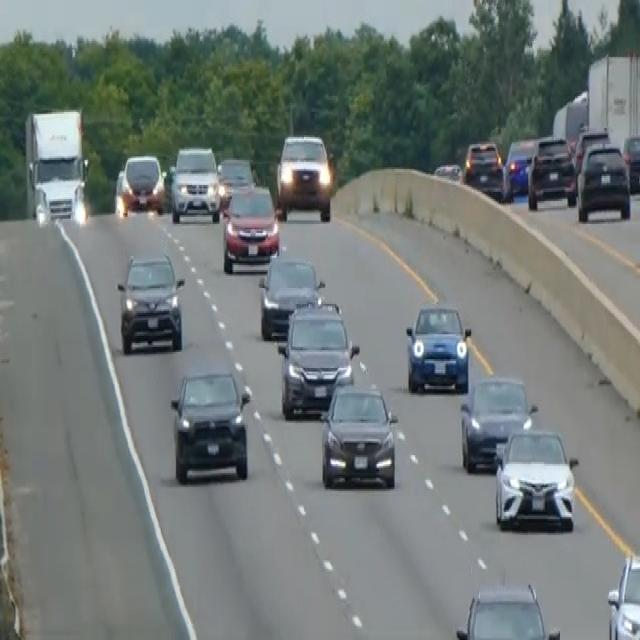car: (277, 298, 359, 418), (169, 366, 251, 484), (493, 422, 578, 532), (319, 379, 398, 489), (459, 371, 536, 473), (116, 249, 185, 354), (455, 580, 561, 638), (404, 302, 471, 393), (258, 252, 325, 340), (221, 181, 280, 274), (275, 132, 333, 220), (576, 140, 631, 222), (169, 144, 220, 222), (526, 133, 576, 210), (120, 151, 165, 215), (606, 551, 639, 638), (462, 137, 506, 199), (216, 154, 254, 210), (503, 135, 537, 196), (573, 126, 609, 180), (622, 132, 639, 192), (433, 160, 461, 183)
lorry: (23, 105, 90, 227)
